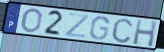2: (43, 10, 65, 38)
C: (110, 17, 134, 45)
G: (88, 16, 111, 41)
H: (131, 18, 158, 49)
O: (20, 7, 44, 34)
Z: (64, 12, 91, 40)
